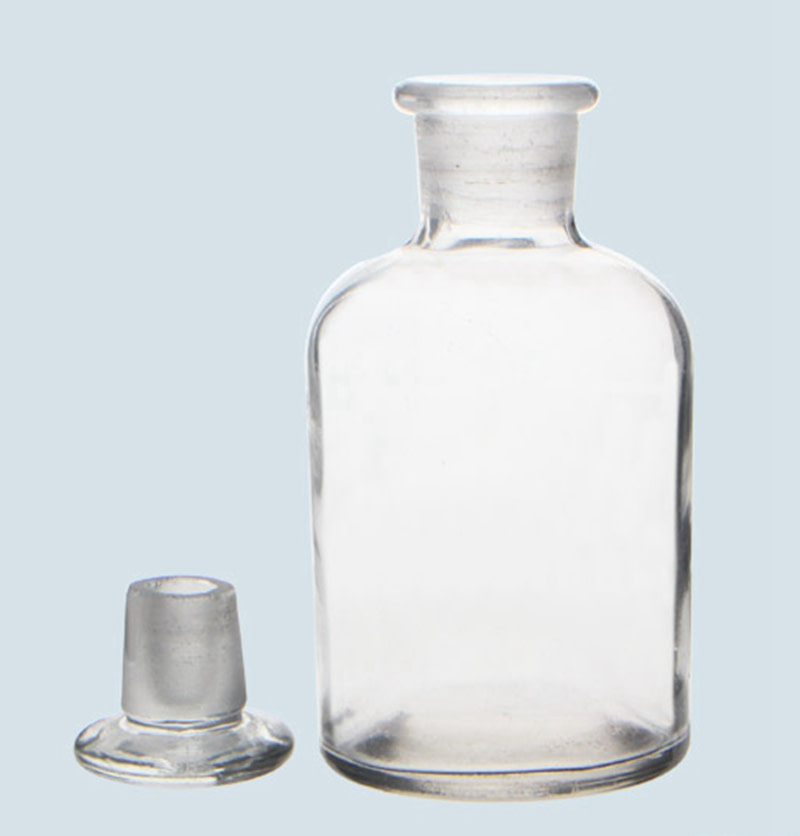glass_label: (305, 71, 699, 807)
